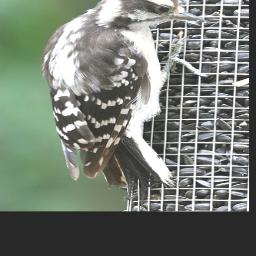Woodpecker: (42, 0, 211, 195)
